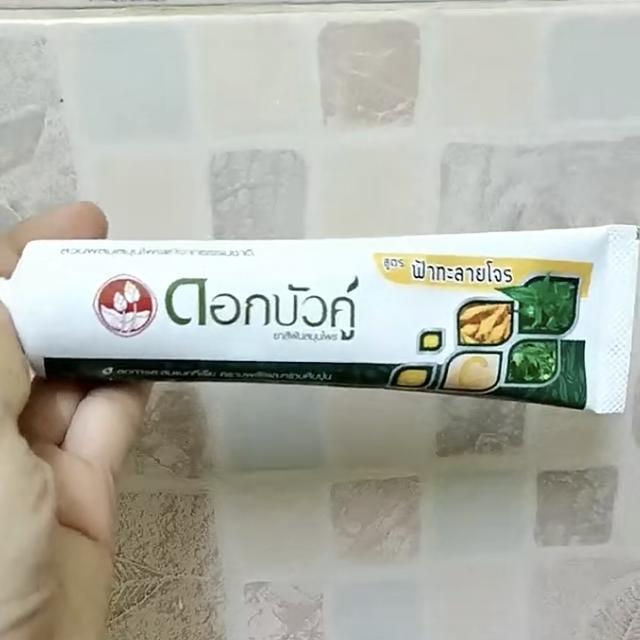Squeeze Tube: (0, 206, 639, 442)
